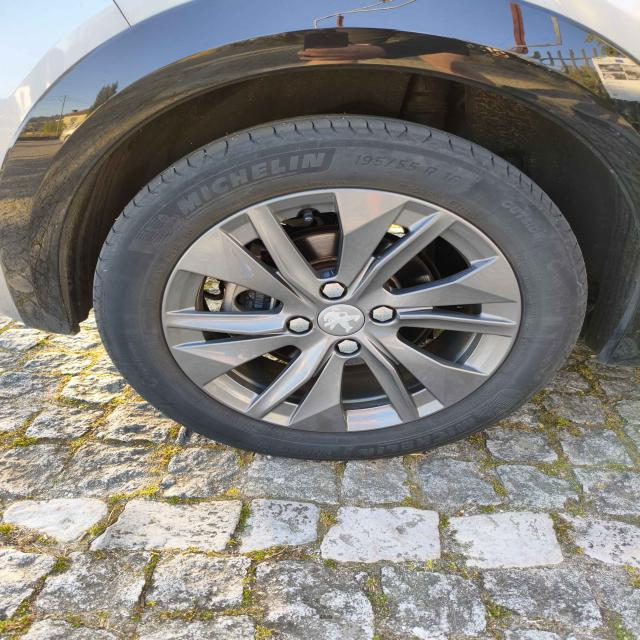jante: (162, 188, 524, 432)
parafuso: (320, 280, 346, 300), (336, 339, 360, 356), (372, 306, 393, 322), (288, 318, 310, 333)
roda: (92, 113, 588, 460)
